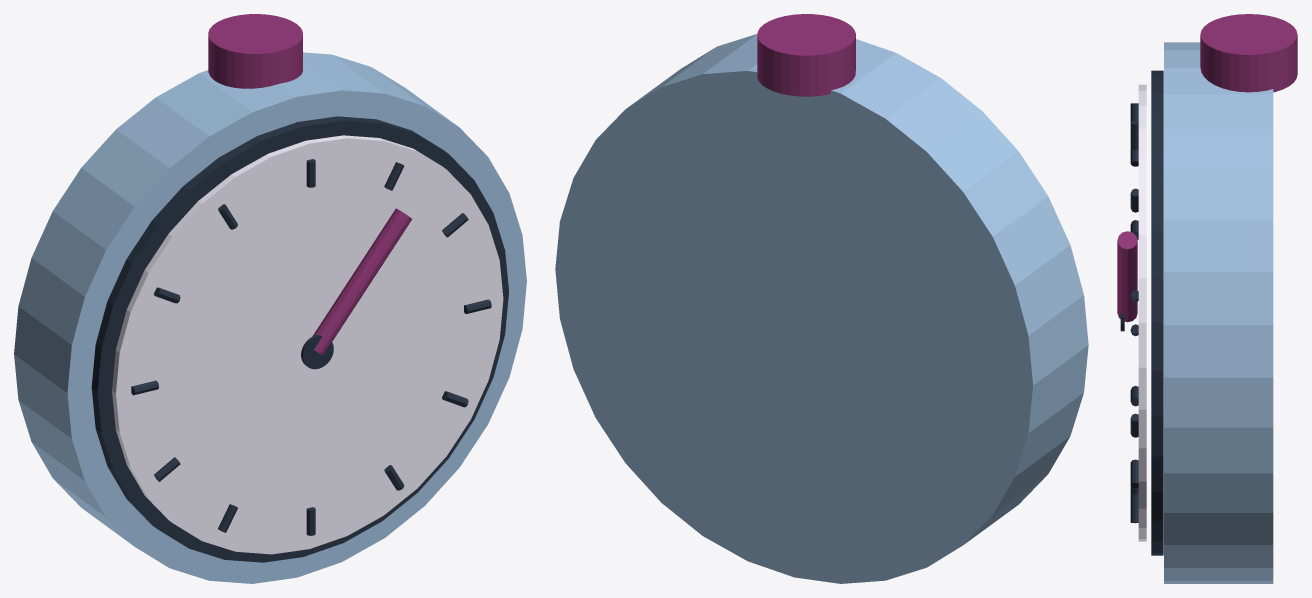
File: timer.glb
The picture shows the model from 3 angles, left to right: view 1: azimuth 30°, elevation 25°; view 2: azimuth 150°, elevation 25°; view 3: azimuth 270°, elevation 25°; orthographic projection. The views are drawn at different scales.
Visible parts, largest first — view 1: dial, housing, bezel, knob, timer hand0, hub; view 2: housing, knob; view 3: housing, knob, bezel, dial, timer hand0, tick 0, tick 5, tick 4.
Part boxes in pixels (box(x1,y1,x2,y2)): dial: box(112, 135, 503, 554); housing: box(14, 52, 526, 583); bezel: box(91, 116, 508, 562); knob: box(208, 14, 302, 88); timer hand0: box(312, 208, 411, 355); hub: box(301, 335, 333, 369); housing: box(555, 34, 1088, 583); knob: box(757, 14, 855, 96); housing: box(1164, 42, 1273, 583); knob: box(1200, 14, 1297, 92); bezel: box(1151, 70, 1163, 555); dial: box(1138, 84, 1146, 541); timer hand0: box(1117, 231, 1137, 322); tick 0: box(1130, 120, 1138, 150); tick 5: box(1130, 494, 1138, 523); tick 4: box(1130, 459, 1138, 488).
Size of the model in its own units: 1.34 by 1.43 by 0.445.
